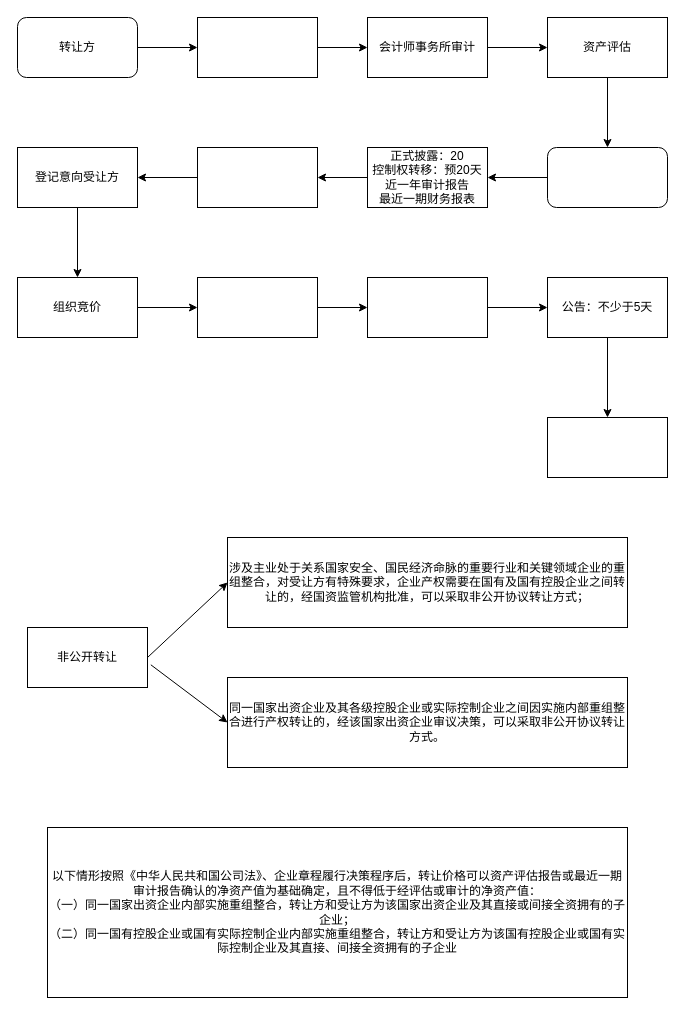
Image size: 685x1015. Some labels were removed from this diagram. The shapes that lost their labels are listed below. From the top down, each one's centre as x and y in pixels, then its label:
(257,47): 内部决策 职工安置、债权处理
(257,177): 受让方资格条件 报国资监管机构
(607,177): 产权交易机构
(257,307): 签订交易合同
(427,307): 交易价款结算
(607,447): 交易凭证
